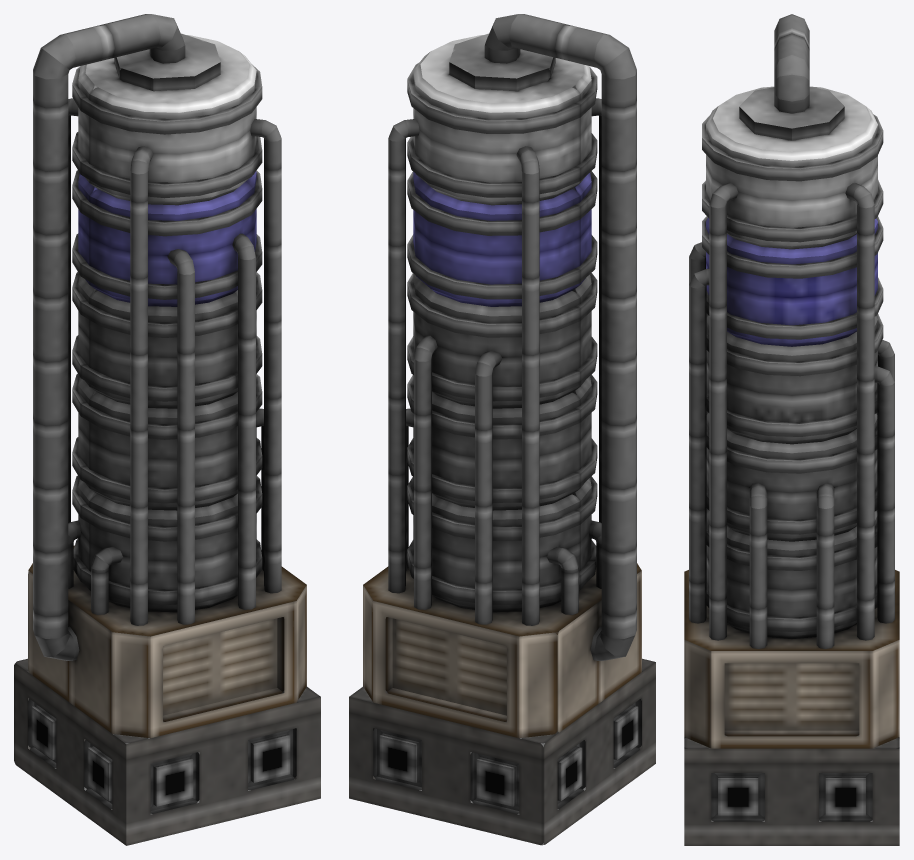
Rendered from atmo_tower.obj.
3 views of the same model, side by side, from view 1: azimuth 30°, elevation 25°; view 2: azimuth 150°, elevation 25°; view 3: azimuth 270°, elevation 25° (orthographic). The views are drawn at different scales.
Visible parts, largest first — view 1: Cylinder.001; view 2: Cylinder.001; view 3: Cylinder.001.
Boxes of the visible parts, x1,y1,x2,y2 form: Cylinder.001: (14,14,320,845); Cylinder.001: (349,14,655,845); Cylinder.001: (684,14,899,845).
Size of the model in its own units: 2.36 by 7.58 by 2.
